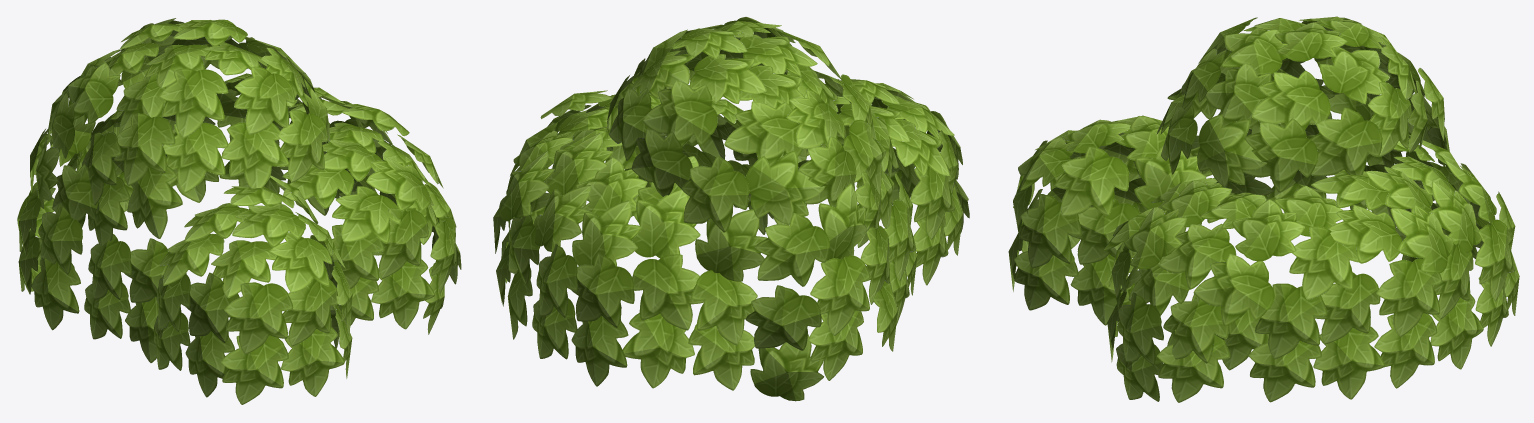
Rendered from Maple Leaves #1.fbx.
3 views of the same model, side by side, from view 1: azimuth 30°, elevation 25°; view 2: azimuth 150°, elevation 25°; view 3: azimuth 270°, elevation 25° (orthographic). The views are drawn at different scales.
Parts seen in each view (by area): view 1: Tree #4; view 2: Tree #4; view 3: Tree #4.
Boxes of the visible parts, box(x1,y1,x2,y2) form: Tree #4: box(17, 18, 461, 404); Tree #4: box(493, 17, 969, 401); Tree #4: box(1008, 16, 1519, 402).
Size of the model in its own units: 330 by 246 by 375.
